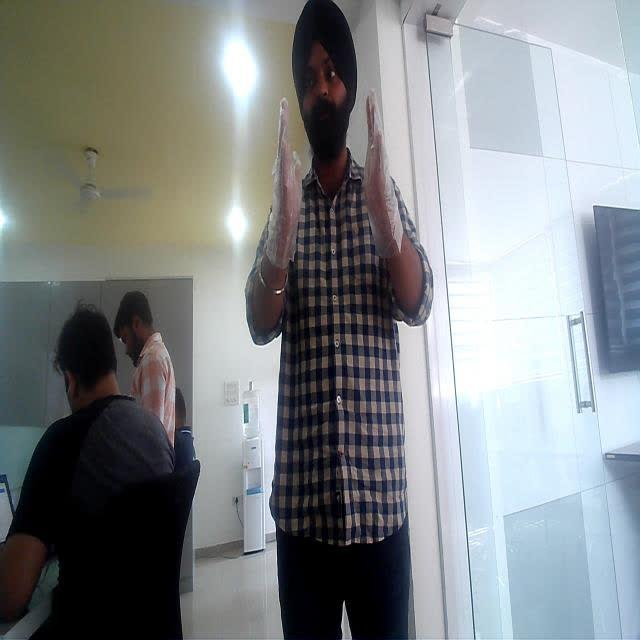with_gloves: (258, 92, 316, 266), (346, 96, 411, 245)
